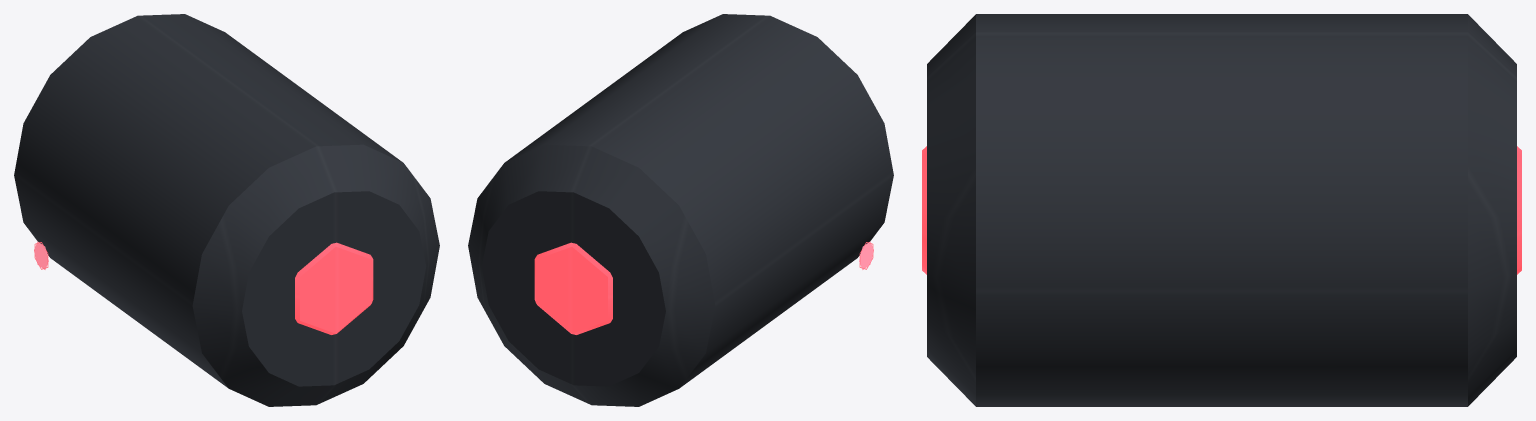
File: gear_shield.glb
The picture shows the model from 3 angles, left to right: view 1: azimuth 30°, elevation 25°; view 2: azimuth 150°, elevation 25°; view 3: azimuth 270°, elevation 25°; orthographic projection. The views are drawn at different scales.
Parts seen in each view (by area): view 1: Shield_Emitter, Shield_Core; view 2: Shield_Emitter, Shield_Core; view 3: Shield_Emitter, Shield_Core.
Boxes of the visible parts, left/top/right/bottom form: Shield_Emitter: left=14, top=14, right=439, bottom=406; Shield_Core: left=295, top=242, right=373, bottom=334; Shield_Emitter: left=468, top=14, right=893, bottom=406; Shield_Core: left=534, top=242, right=612, bottom=334; Shield_Emitter: left=927, top=14, right=1516, bottom=406; Shield_Core: left=922, top=146, right=1521, bottom=274.
Size of the model in its own units: 0.1001 by 0.08 by 0.122.
3 materials, 3 textured.
